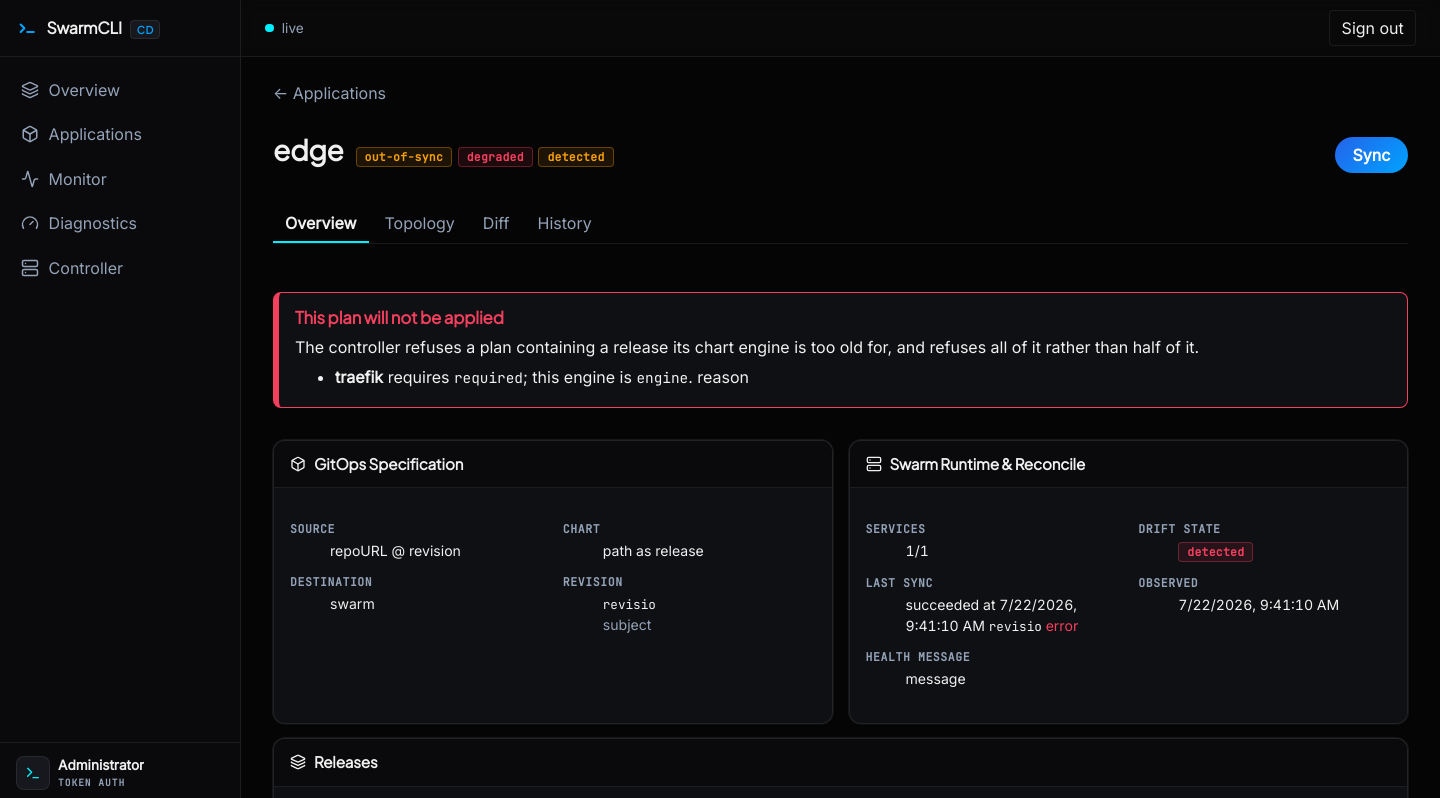
the sync button › says the sync was accepted, not that it succeeded
What coordinates should you click on to do the following:
click the button "Sync"
I would click on:
 (1372, 155)
Its box is x1=1335 y1=137 x2=1408 y2=173.
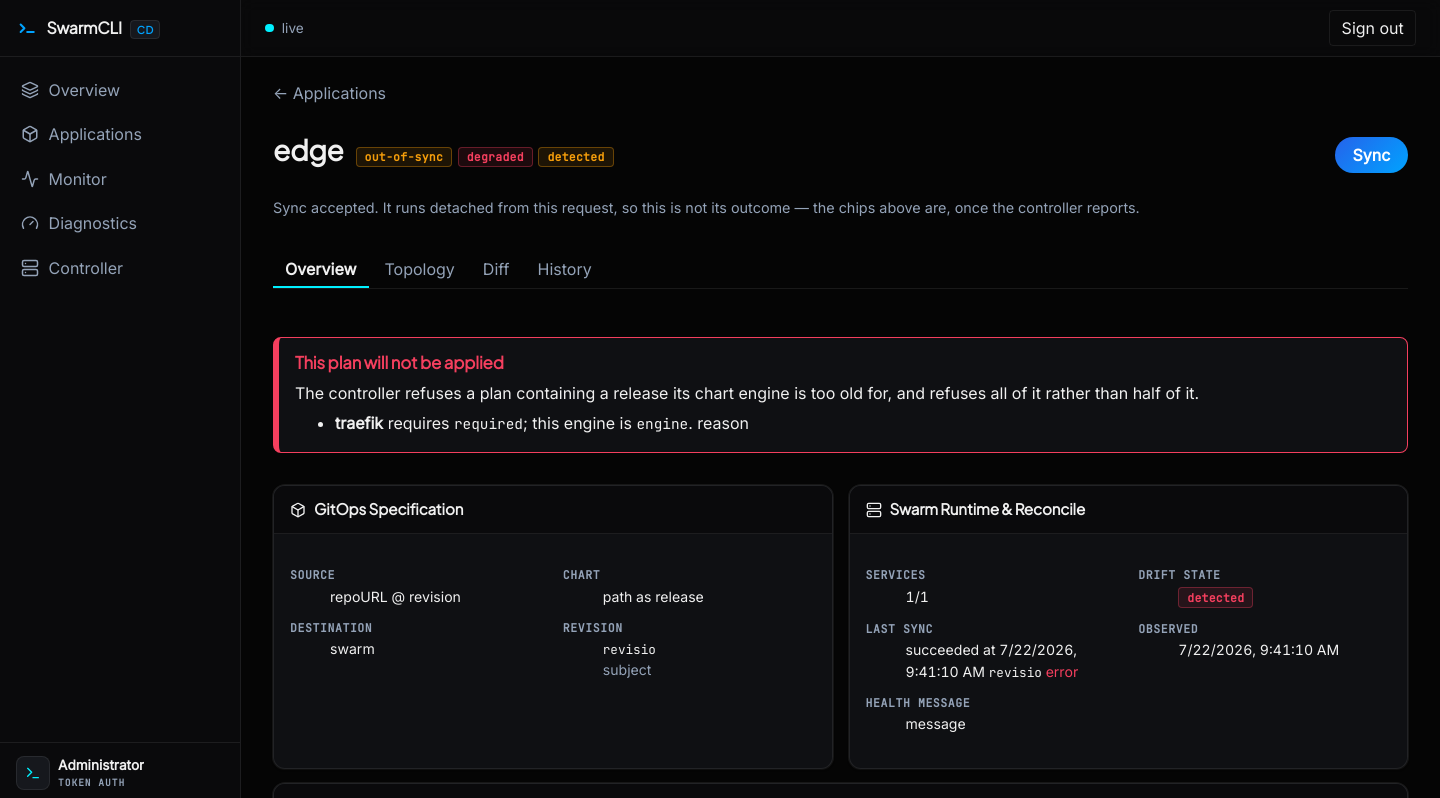
Expected: the message with test id "sync-outcome" shows "accepted", x1=273 y1=199 x2=1140 y2=216
Expected: the message with test id "sync-outcome" shows "not its outcome", x1=273 y1=199 x2=1140 y2=216
